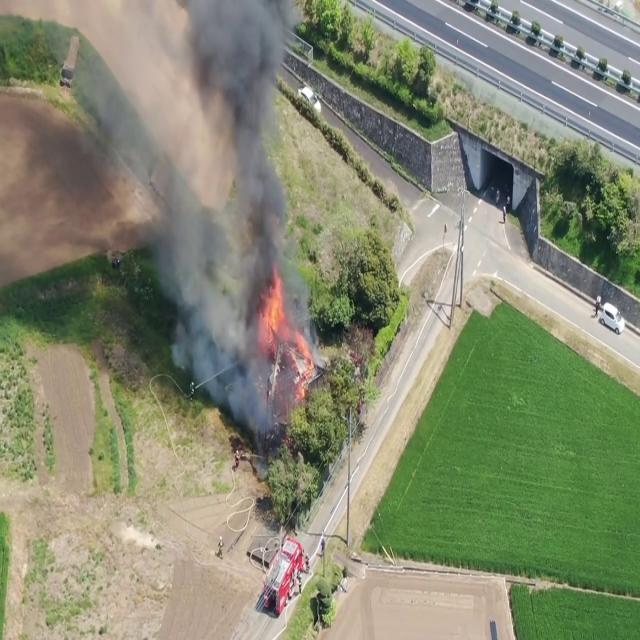Fire: (257, 261, 315, 388)
Smoke: (0, 1, 313, 410)
